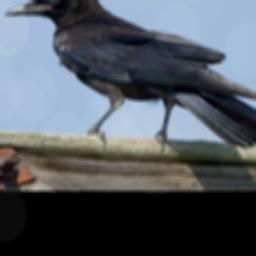Crow: (4, 0, 256, 148)
